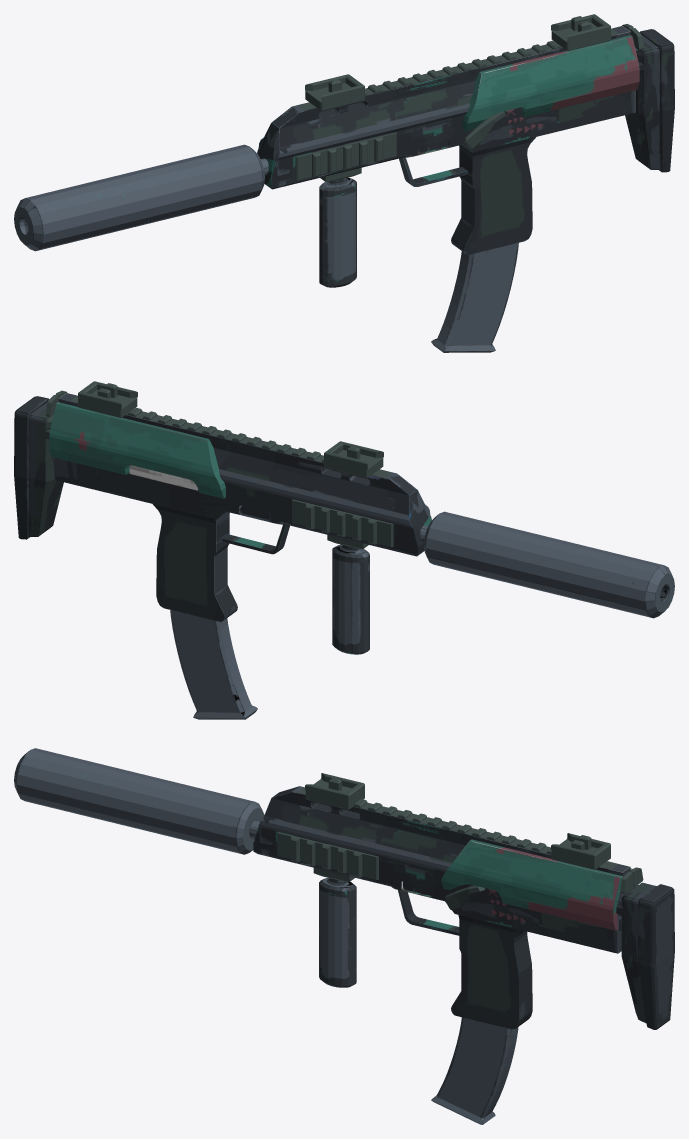
The picture shows the model from 3 angles, top to bottom: view 1: azimuth 30°, elevation 25°; view 2: azimuth 150°, elevation 25°; view 3: azimuth 330°, elevation 25°; orthographic projection.
Parts seen in each view (by area): view 1: cuerpo, Cylinder, padding, Cargador, culata, Agarre, accesorios2, rail, mira1, mira2, switch; view 2: cuerpo, Cylinder, padding, Cargador, culata, Agarre, accesorios1, rail, mira1, mira2, Plane; view 3: cuerpo, Cylinder, padding, culata, Cargador, Agarre, accesorios2, rail, mira1, mira2.
Part boxes in pixels (left/top/right/bottom): cuerpo: left=257, top=26, right=637, bottom=254; Cylinder: left=14, top=144, right=268, bottom=251; padding: left=463, top=35, right=639, bottom=131; Cargador: left=431, top=243, right=518, bottom=352; culata: left=625, top=29, right=674, bottom=172; Agarre: left=319, top=177, right=356, bottom=287; accesorios2: left=295, top=132, right=396, bottom=180; rail: left=297, top=28, right=618, bottom=110; mira1: left=551, top=14, right=610, bottom=50; mira2: left=305, top=74, right=364, bottom=110; switch: left=464, top=111, right=505, bottom=149; cuerpo: left=51, top=393, right=431, bottom=621; Cylinder: left=420, top=511, right=674, bottom=618; padding: left=49, top=402, right=225, bottom=498; Cargador: left=170, top=610, right=257, bottom=719; culata: left=14, top=396, right=63, bottom=539; Agarre: left=332, top=544, right=369, bottom=654; accesorios1: left=292, top=499, right=393, bottom=547; rail: left=70, top=396, right=391, bottom=477; mira1: left=78, top=381, right=137, bottom=417; mira2: left=324, top=441, right=383, bottom=477; Plane: left=129, top=465, right=198, bottom=490; cuerpo: left=253, top=786, right=635, bottom=1029; Cylinder: left=14, top=748, right=264, bottom=854; padding: left=441, top=839, right=638, bottom=930; culata: left=616, top=882, right=674, bottom=1029; Cargador: left=431, top=1017, right=518, bottom=1124; Agarre: left=319, top=878, right=356, bottom=987; accesorios2: left=277, top=832, right=378, bottom=879; rail: left=297, top=787, right=618, bottom=869; mira1: left=551, top=833, right=610, bottom=869; mira2: left=305, top=773, right=364, bottom=809.
Size of the model in its own units: 4.56 by 2.08 by 0.3354.
Materials: 5 (5 with a texture image).
